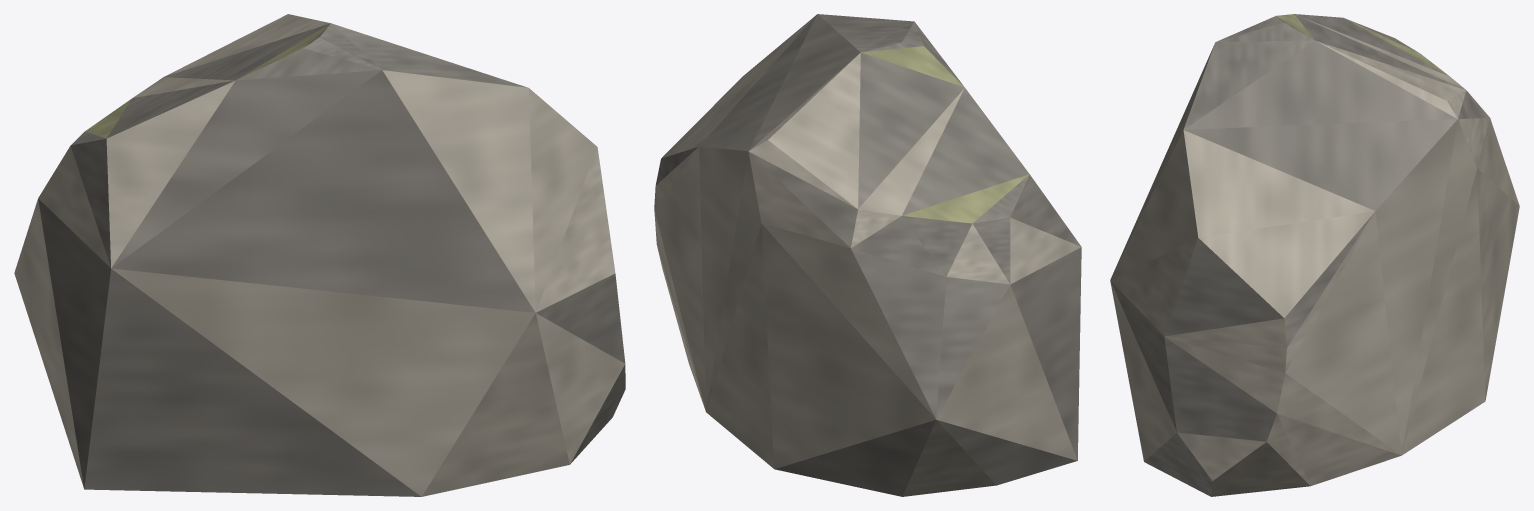
File: rock_small_01.fbx
The picture shows the model from 3 angles, left to right: view 1: azimuth 30°, elevation 25°; view 2: azimuth 150°, elevation 25°; view 3: azimuth 270°, elevation 25°; orthographic projection. The views are drawn at different scales.
Parts seen in each view (by area): view 1: rock_small_01; view 2: rock_small_01; view 3: rock_small_01.
Boxes of the visible parts, x1,y1,x2,y2 form: rock_small_01: (14,14,625,496); rock_small_01: (654,14,1081,496); rock_small_01: (1110,14,1519,496).
Bounding box in the file's own units: 0.5331 × 0.4183 × 0.4252.
